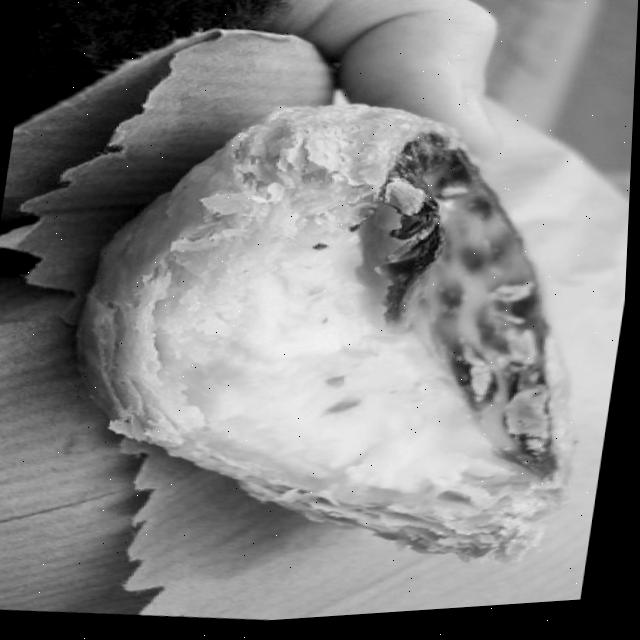炸货点心: (76, 79, 614, 576)
蛋糕甜品: (76, 79, 614, 576)
